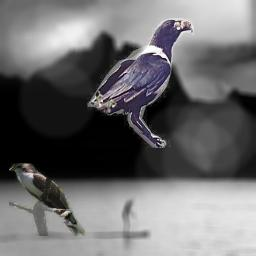Crow: (87, 18, 194, 148)
Cuckoo: (9, 163, 86, 236)
